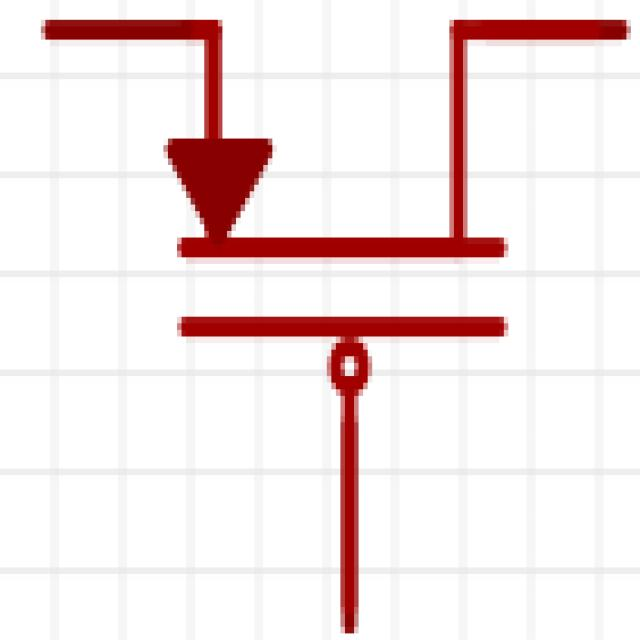pmos: (54, 7, 640, 560)
